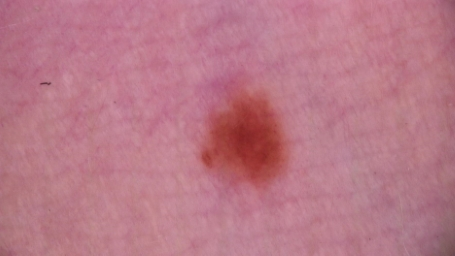nevus: (201, 97, 285, 192)
